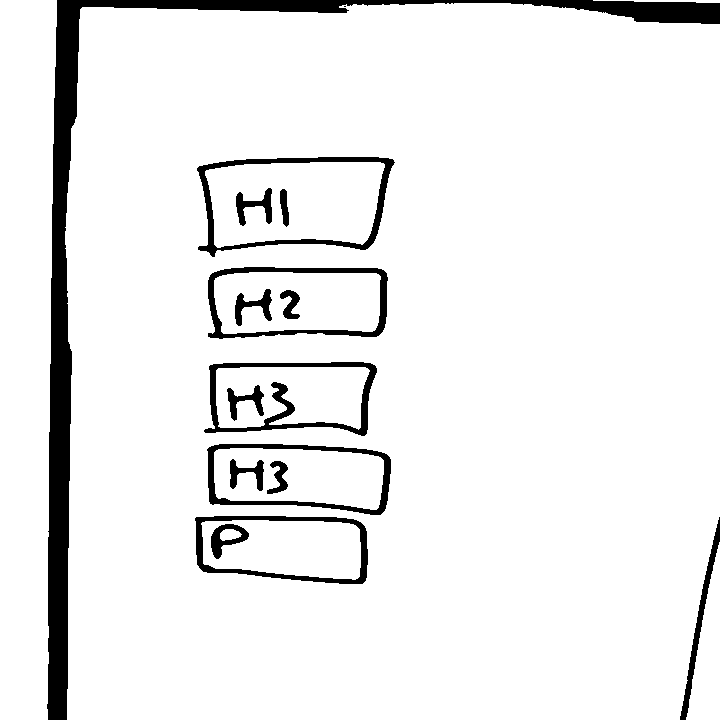heading1: (191, 155, 398, 257)
heading2: (205, 265, 396, 344)
heading3: (203, 442, 396, 516), (202, 360, 380, 439)
paragraph: (196, 513, 373, 587)
